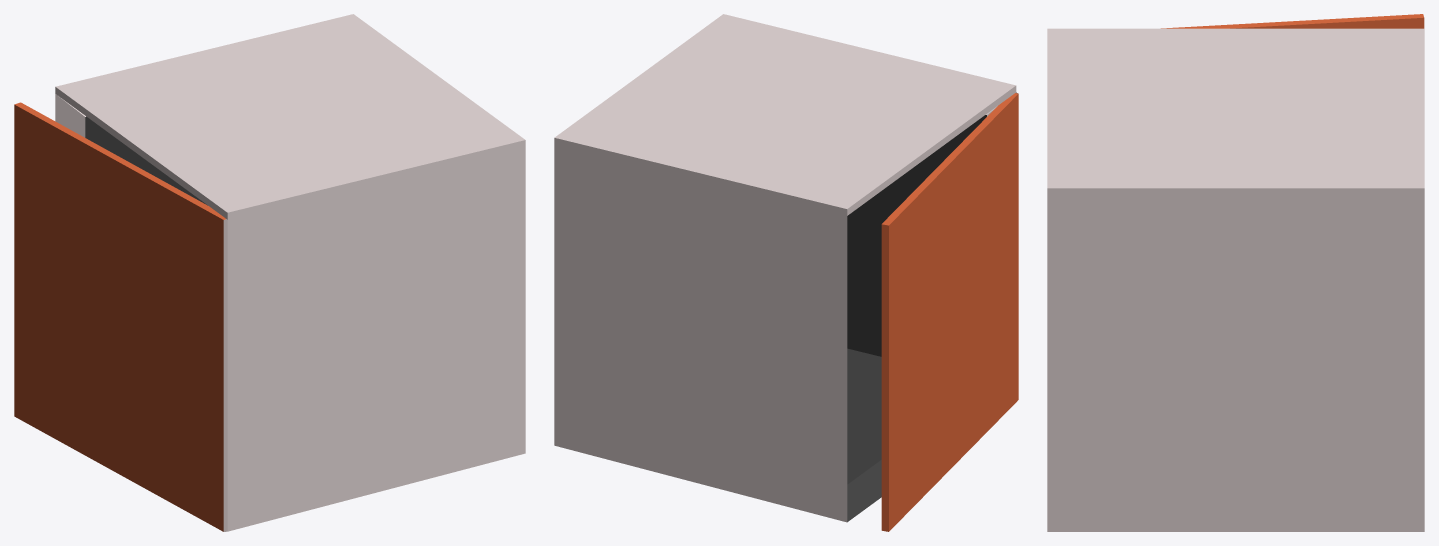
Rendered from RazrabiDebili.fbx.
3 views of the same model, side by side, from view 1: azimuth 30°, elevation 25°; view 2: azimuth 150°, elevation 25°; view 3: azimuth 270°, elevation 25° (orthographic). The views are drawn at different scales.
Parts seen in each view (by area): view 1: Cube; view 2: Cube; view 3: Cube.
Part boxes in pixels (x1,y1,x2,y2): Cube: (14,14,525,531); Cube: (554,14,1018,531); Cube: (1047,14,1424,531).
Size of the model in its own units: 228 by 205 by 200.
